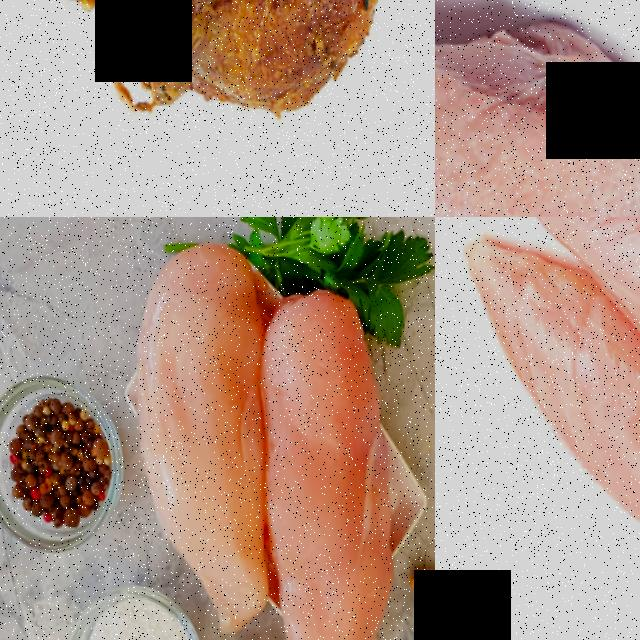chicken breast: (78, 222, 304, 640), (227, 283, 434, 640), (435, 262, 640, 568), (435, 0, 640, 217), (523, 217, 640, 403)
chicken thigh: (0, 0, 418, 154)
